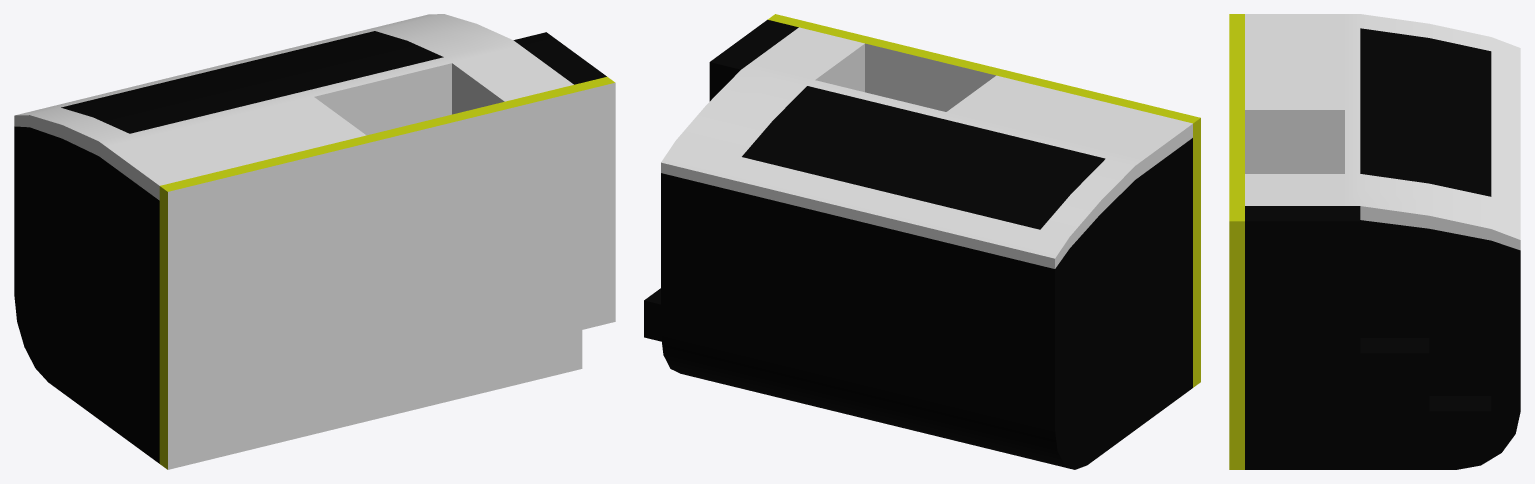
3 renders of one model, left to right at view 1: azimuth 30°, elevation 25°; view 2: azimuth 150°, elevation 25°; view 3: azimuth 270°, elevation 25°, orthographic. The views are drawn at different scales.
Visible parts, largest first — view 1: Cube; view 2: Cube; view 3: Cube.
Boxes of the visible parts, x1=… form: Cube: x1=14, y1=14, x2=615, y2=469; Cube: x1=644, y1=14, x2=1200, y2=469; Cube: x1=1229, y1=14, x2=1520, y2=469.
Bounding box in the file's own units: 84.23 × 50 × 50.
